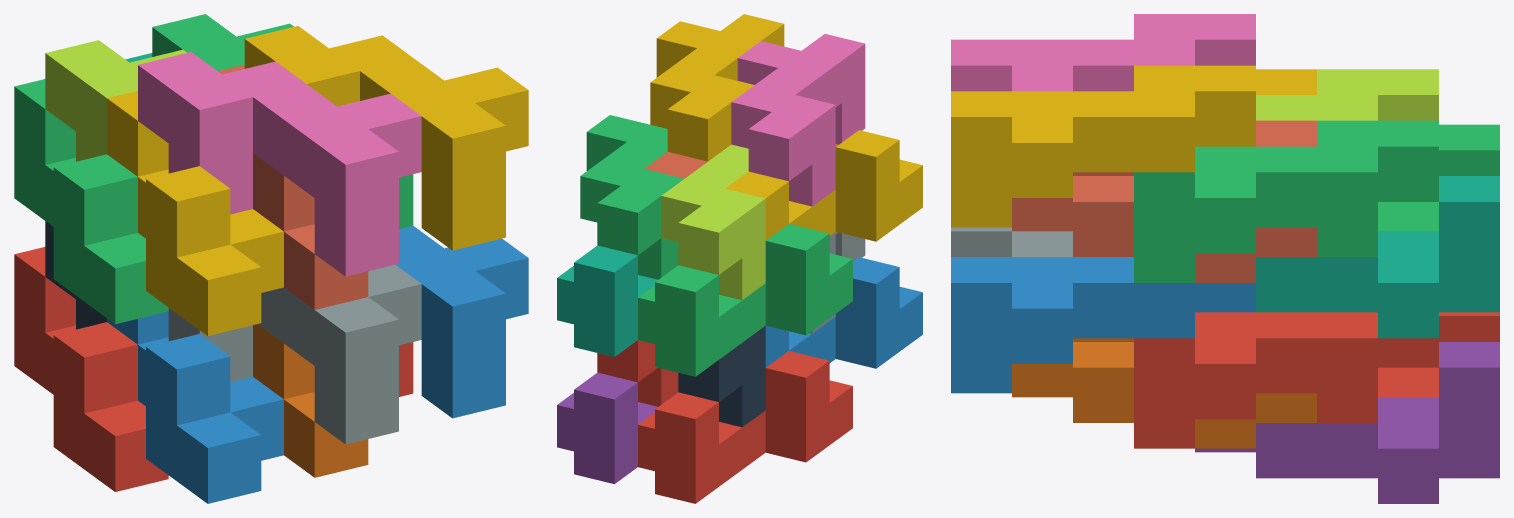
Rendered from tiling.obj.
3 renders of one model, left to right at view 1: azimuth 30°, elevation 25°; view 2: azimuth 150°, elevation 25°; view 3: azimuth 270°, elevation 25°, orthographic. The views are drawn at different scales.
Visible parts, largest first — view 1: copy_2_domain_4, copy_2_domain_8, copy_1_domain_4, copy_1_domain_2, copy_1_domain_3, copy_1_domain_1, copy_2_domain_2, copy_2_domain_6, copy_1_domain_8, copy_2_domain_3, copy_1_domain_6, copy_2_domain_7 (+2 smaller); view 2: copy_1_domain_1, copy_1_domain_3, copy_2_domain_4, copy_2_domain_8, copy_2_domain_7, copy_1_domain_4, copy_2_domain_3, copy_1_domain_2, copy_1_domain_5, copy_1_domain_7, copy_2_domain_1, copy_2_domain_5 (+2 smaller); view 3: copy_2_domain_7, copy_2_domain_8, copy_2_domain_5, copy_2_domain_6, copy_1_domain_5, copy_1_domain_7, copy_2_domain_4, copy_1_domain_8, copy_1_domain_6, copy_2_domain_3, copy_1_domain_3, copy_1_domain_1 (+2 smaller).
Part boxes in pixels (x1,y1,x2,y2): copy_2_domain_4: (138, 52, 421, 276); copy_2_domain_8: (244, 26, 528, 250); copy_1_domain_4: (107, 91, 283, 335); copy_1_domain_2: (107, 311, 283, 503); copy_1_domain_3: (14, 79, 168, 324); copy_1_domain_1: (14, 247, 168, 491); copy_2_domain_2: (168, 264, 421, 444); copy_2_domain_6: (395, 226, 528, 418); copy_1_domain_8: (218, 65, 368, 309); copy_2_domain_3: (45, 40, 186, 161); copy_1_domain_6: (253, 324, 368, 477); copy_2_domain_7: (152, 14, 413, 229); copy_1_domain_1: (638, 351, 852, 503); copy_1_domain_3: (638, 224, 852, 376); copy_2_domain_4: (731, 34, 865, 206); copy_2_domain_8: (650, 14, 784, 161); copy_2_domain_7: (580, 115, 684, 279); copy_1_domain_4: (725, 130, 922, 241); copy_2_domain_3: (661, 144, 765, 300); copy_1_domain_2: (765, 257, 922, 368); copy_1_domain_5: (557, 372, 657, 483); copy_1_domain_7: (557, 245, 657, 356); copy_2_domain_1: (678, 326, 765, 427); copy_2_domain_5: (597, 340, 678, 406); copy_2_domain_7: (1134, 120, 1438, 282); copy_2_domain_8: (951, 65, 1255, 227); copy_2_domain_5: (1134, 312, 1438, 448); copy_2_domain_6: (951, 257, 1255, 393); copy_1_domain_5: (1195, 342, 1499, 503); copy_1_domain_7: (1256, 176, 1499, 338); copy_2_domain_4: (951, 14, 1255, 91); copy_1_domain_8: (1012, 120, 1316, 282); copy_1_domain_6: (1012, 338, 1316, 448); copy_2_domain_3: (1256, 69, 1438, 120); copy_1_domain_3: (1378, 124, 1499, 231); copy_1_domain_1: (1378, 312, 1499, 397).
Bounding box in the file's own units: 6 × 7 × 9.
